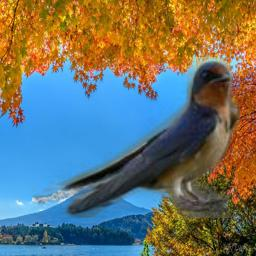Swallow: (32, 57, 240, 218)
